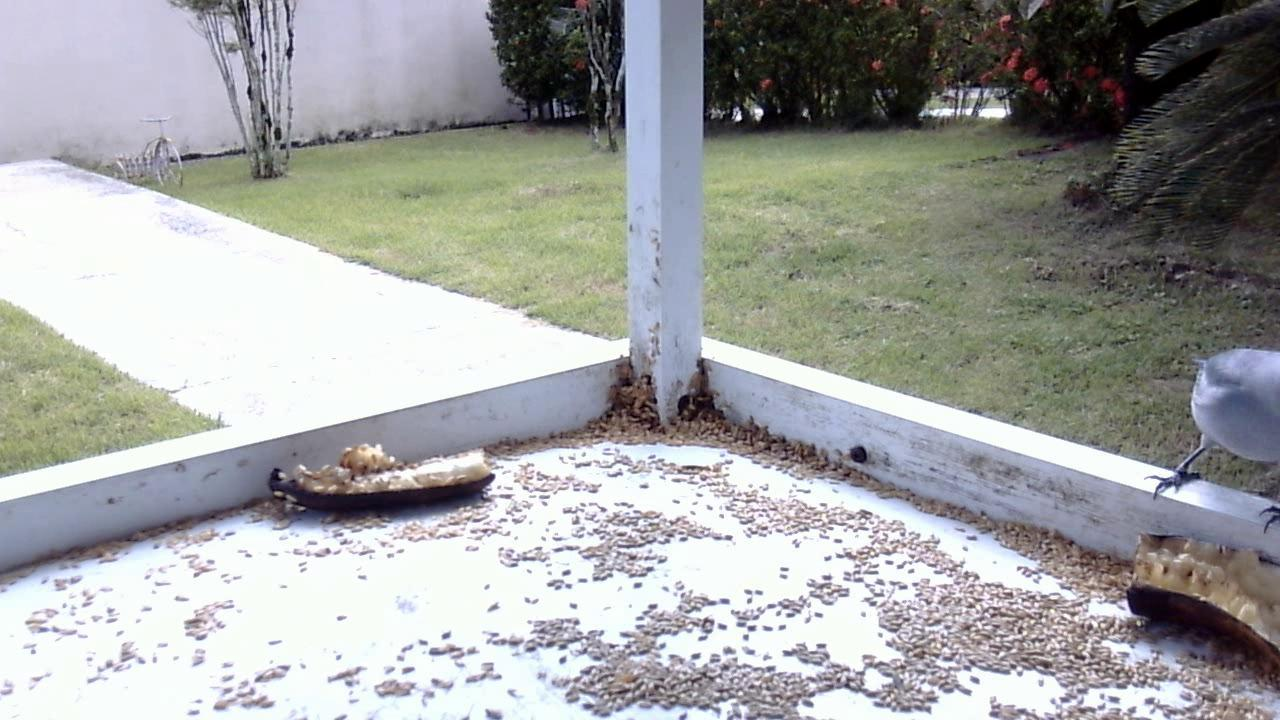sanhaco_da_amazonia: (1142, 335, 1280, 554)
